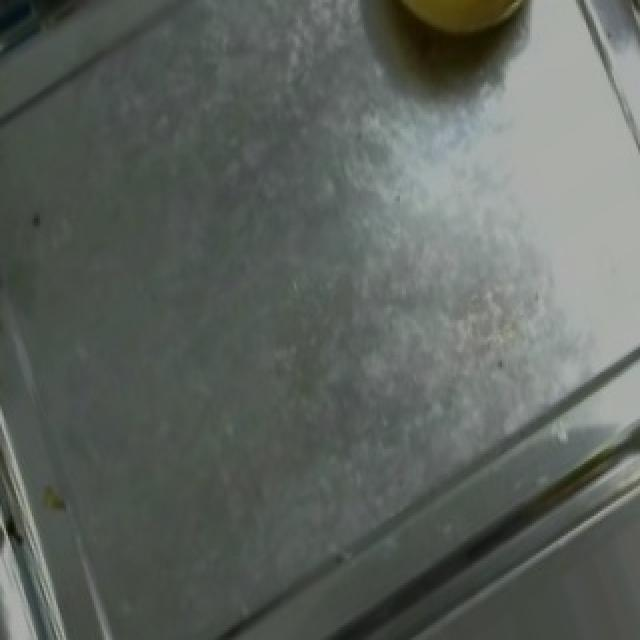fruit: (328, 0, 554, 64)
